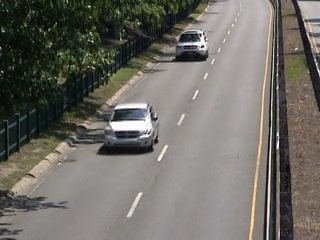car: (102, 100, 166, 151), (172, 27, 212, 64)
